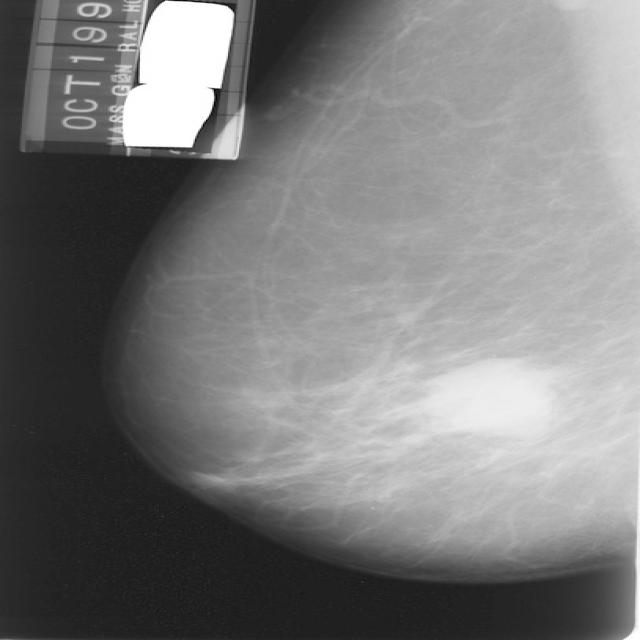tumour: (418, 358, 562, 438)
